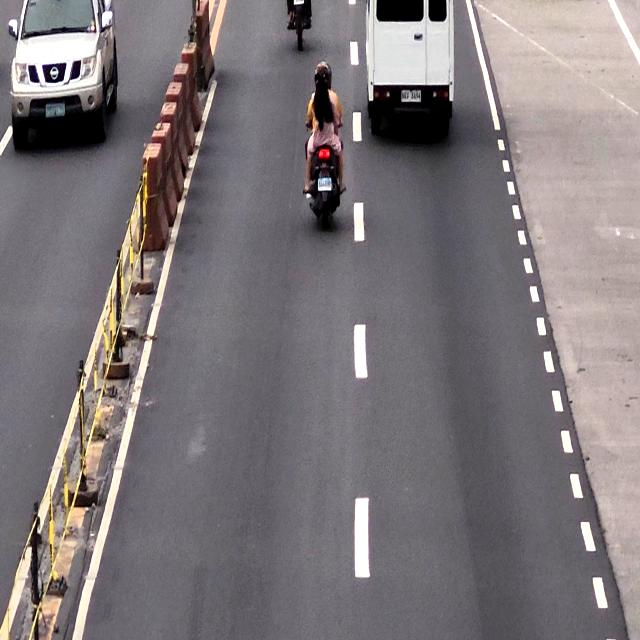Car: (365, 0, 454, 132)
License-Plate: (401, 87, 422, 104), (317, 177, 332, 190)
Motorcycle: (303, 63, 343, 221)
